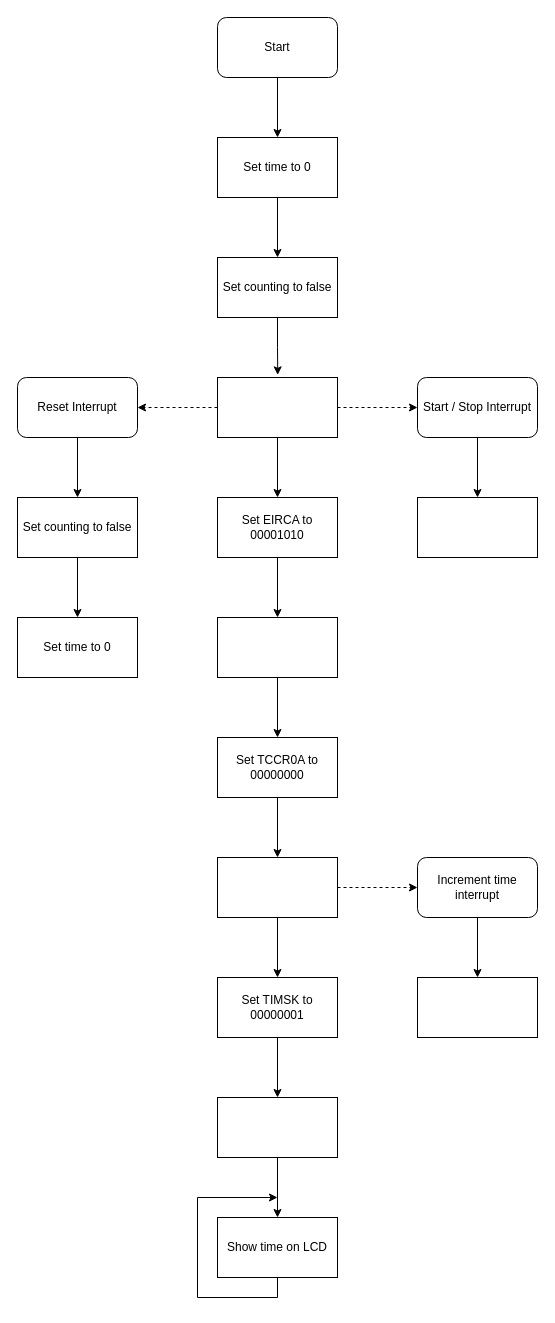
This 555x1323 diagram has some shape labels left out. The centre of each missing label's shape, as x and y in pixels:
"Increment time by 1/61.035" belongs at pixel 477 1007.
"Init LCD" belongs at pixel 277 1127.
"Set EIMSK to 00000011" belongs at pixel 277 407.
"Set TCCR0B to 00000101" belongs at pixel 277 647.
"Set TIFR0 to 00000001" belongs at pixel 277 887.
"Toggle counting" belongs at pixel 477 527.
